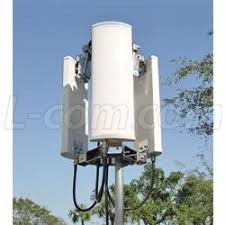sa: (80, 17, 143, 153), (129, 51, 172, 163), (44, 49, 85, 165)
